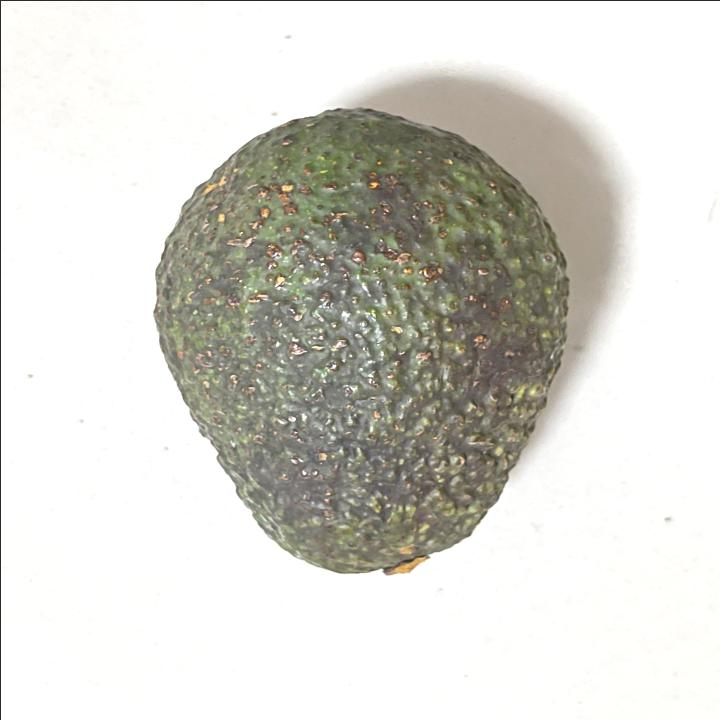Level1: (130, 97, 586, 595)
